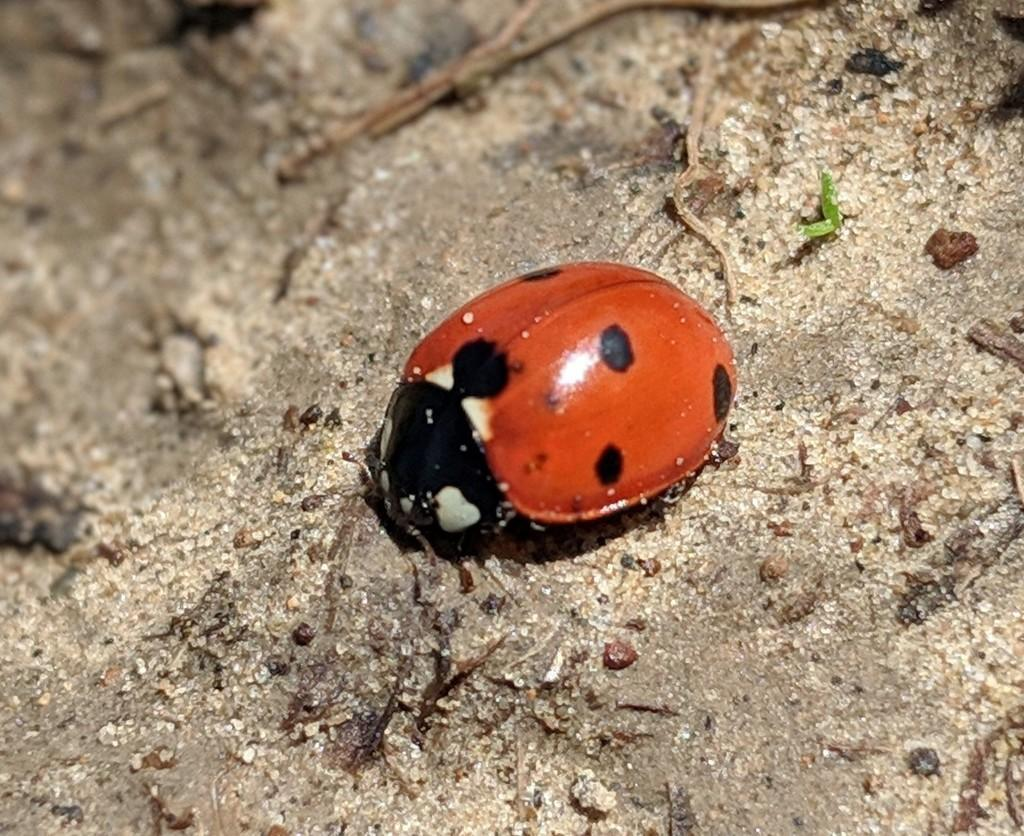ladybug: (369, 254, 739, 579)
